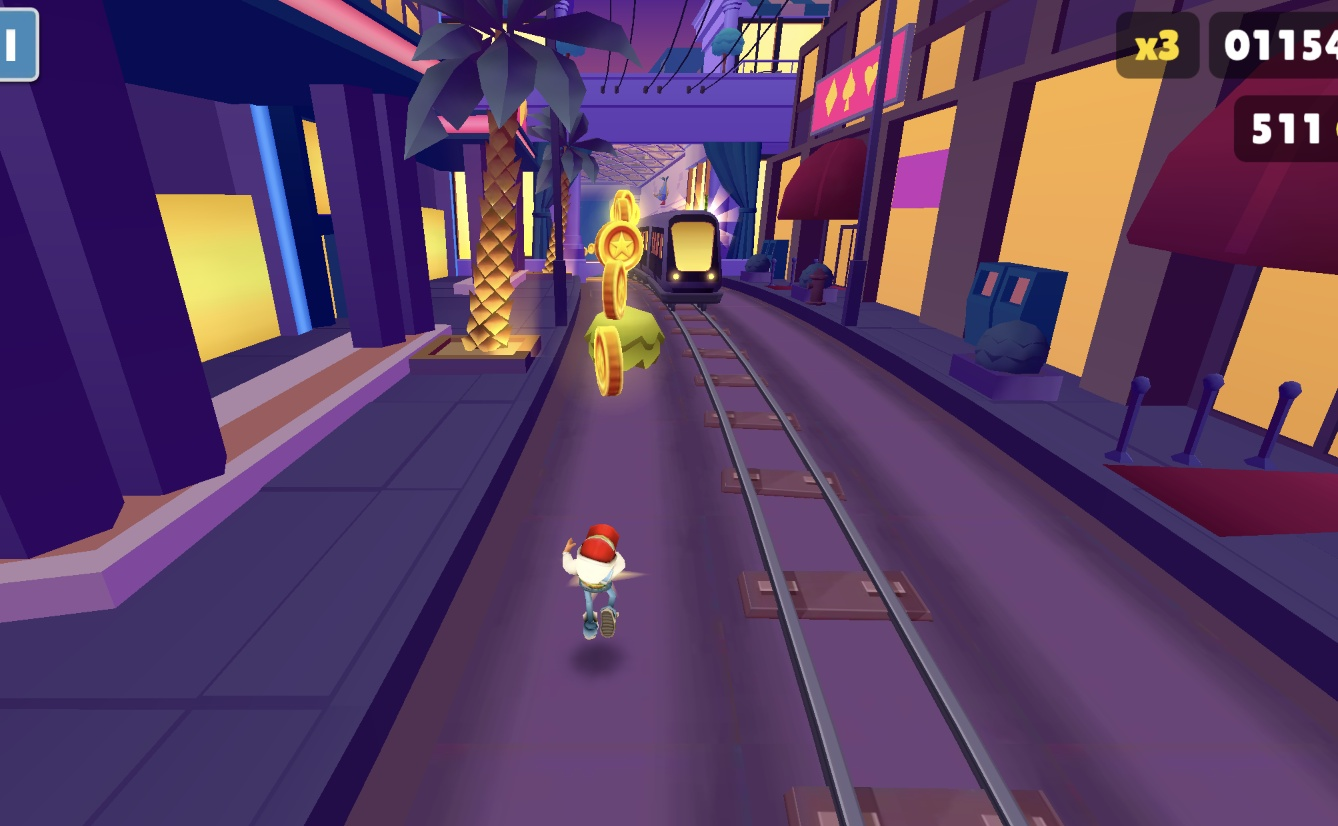bush: (587, 309, 671, 379)
train: (634, 220, 711, 304)
